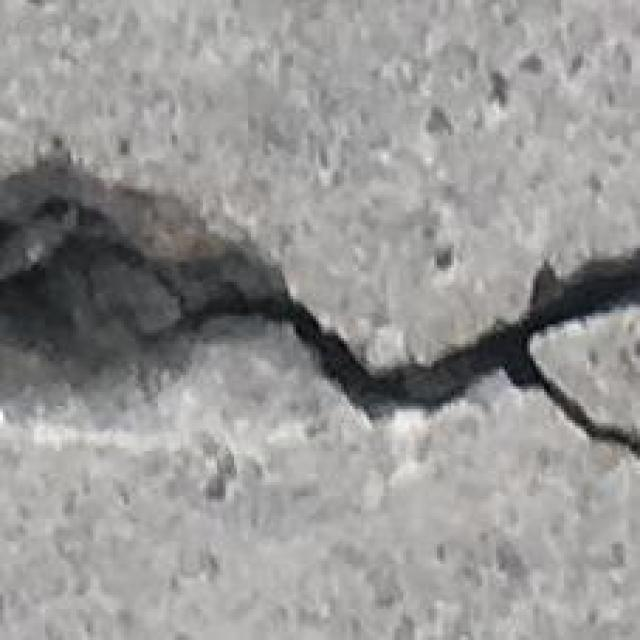Crack: (3, 124, 640, 462)
